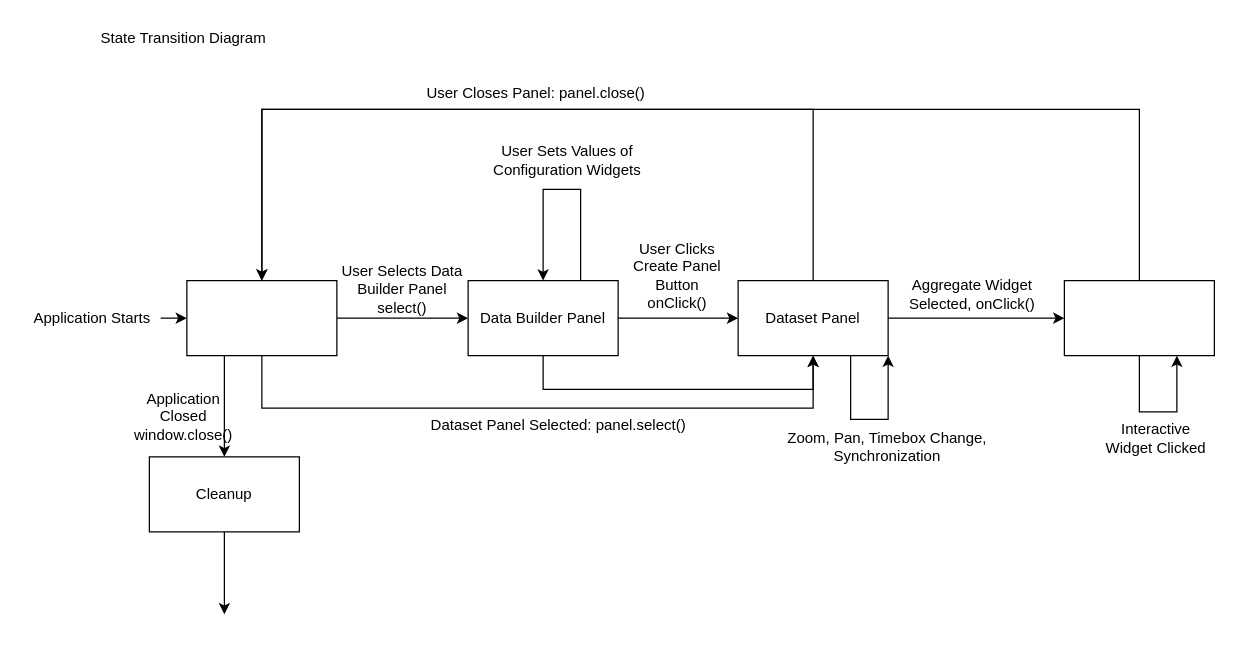
This 1238x646 diagram has some shape labels left out. Each missing label, with the centre of its shape:
"Aggregate Panel" goes at pixel 1138 317.
"Main Window" goes at pixel 261 317.
